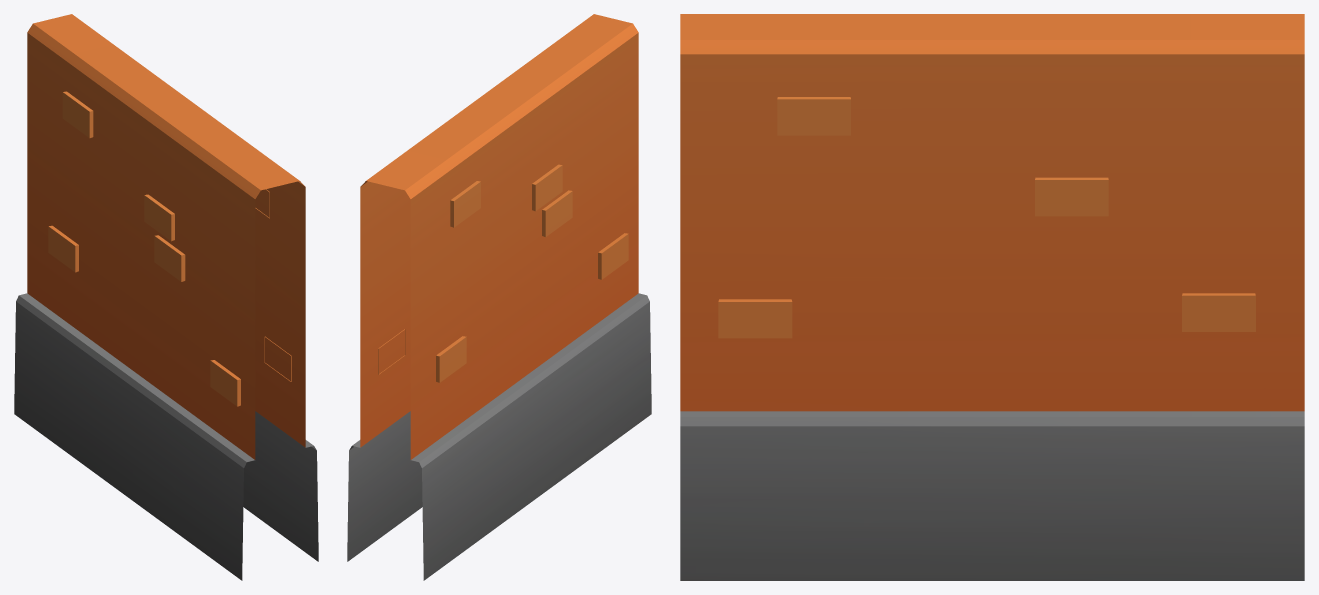
File: WallFence_3_1_A.fbx
The picture shows the model from 3 angles, left to right: view 1: azimuth 30°, elevation 25°; view 2: azimuth 150°, elevation 25°; view 3: azimuth 270°, elevation 25°; orthographic projection. The views are drawn at different scales.
Visible parts, largest first — view 1: WallFence_3_1_A; view 2: WallFence_3_1_A; view 3: WallFence_3_1_A.
Boxes of the visible parts, x1=… form: WallFence_3_1_A: x1=14, y1=14, x2=318, y2=580; WallFence_3_1_A: x1=347, y1=14, x2=651, y2=580; WallFence_3_1_A: x1=680, y1=14, x2=1304, y2=580.
Size of the model in its own units: 38.8 by 187 by 200.
